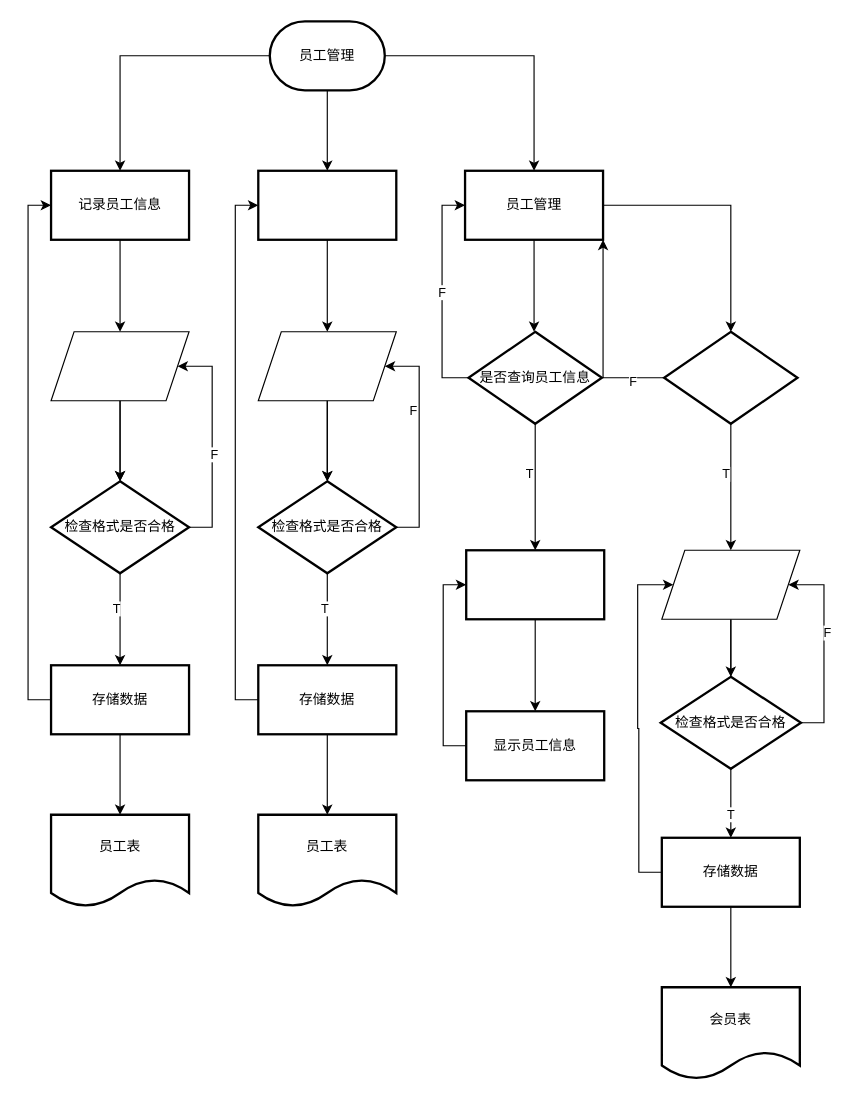
Image size: 854x1099. Some labels were removed from this diagram. Each missing label, with the box of its shape:
员工权限管理: (257, 169, 397, 240)
是否修改员工信息: (662, 330, 798, 424)
查询信息: (464, 549, 605, 620)
输入修改后的员工信息: (661, 549, 800, 619)
输入员工姓名、入职时间、职位、电话号码、身份证号码、每月薪资: (50, 331, 189, 401)
输入员工权限: (257, 331, 396, 401)
